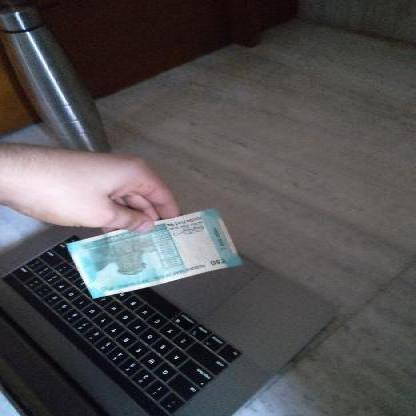New50Back: (70, 209, 237, 289)
